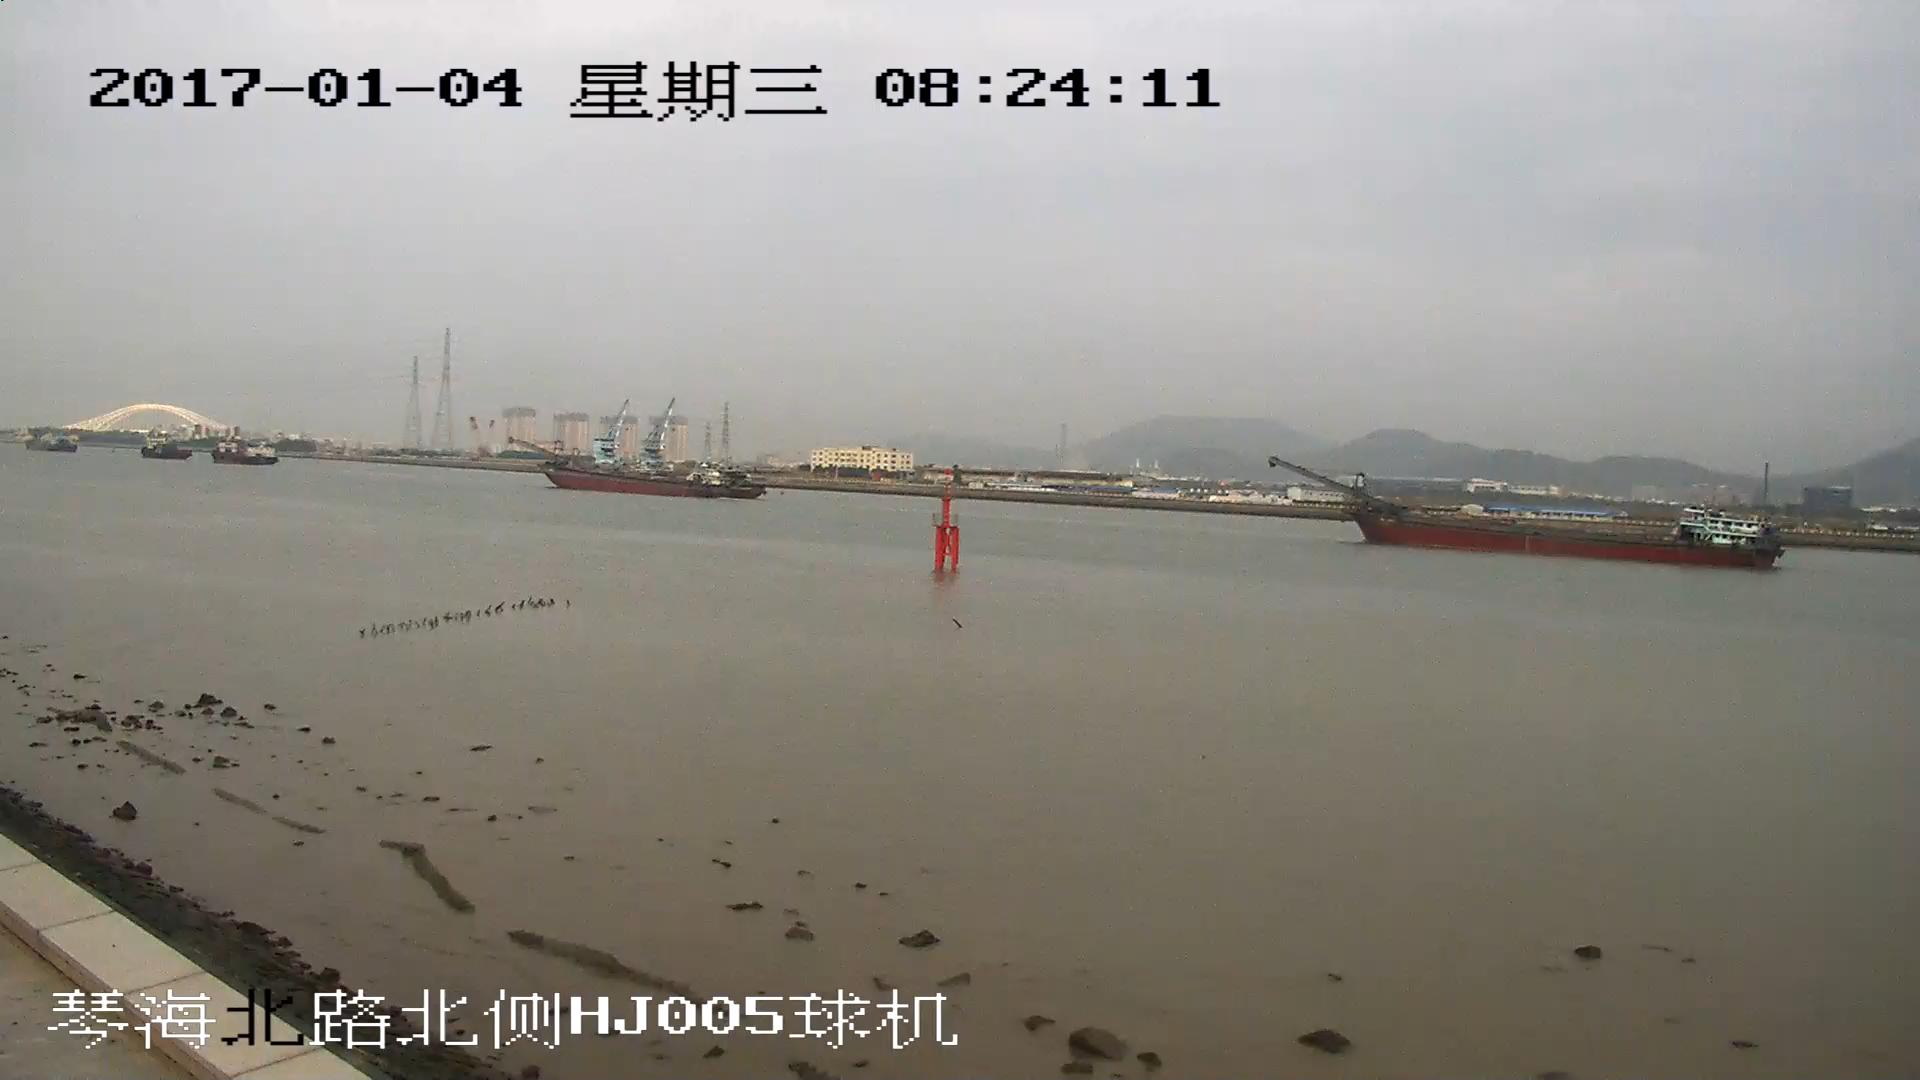bulk cargo carrier: (1272, 458, 1781, 568), (507, 438, 764, 497)
